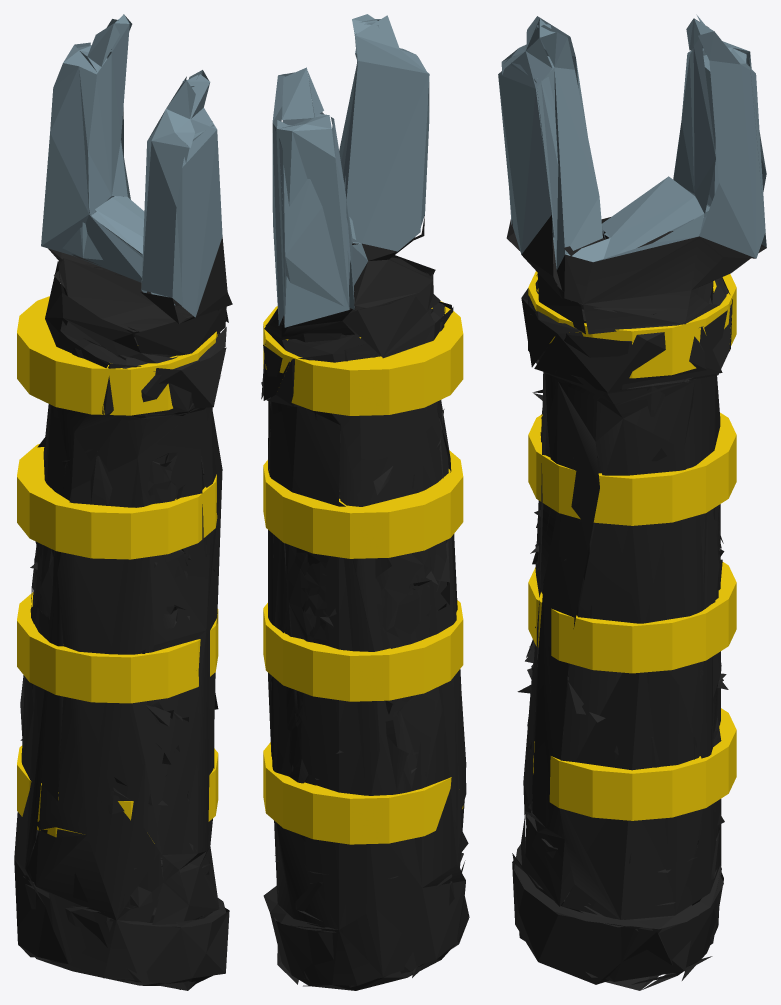
File: PROP_07_game.glb
The picture shows the model from 3 angles, left to right: view 1: azimuth 30°, elevation 25°; view 2: azimuth 150°, elevation 25°; view 3: azimuth 270°, elevation 25°; orthographic projection. The views are drawn at different scales.
Parts seen in each view (by area): view 1: PROP_07; view 2: PROP_07; view 3: PROP_07.
Boxes of the visible parts, box(x1,y1,x2,y2) form: PROP_07: box(14, 14, 232, 990); PROP_07: box(261, 14, 469, 990); PROP_07: box(498, 14, 766, 990).
Bounding box in the file's own units: 0.1359 × 0.65 × 0.1652.
